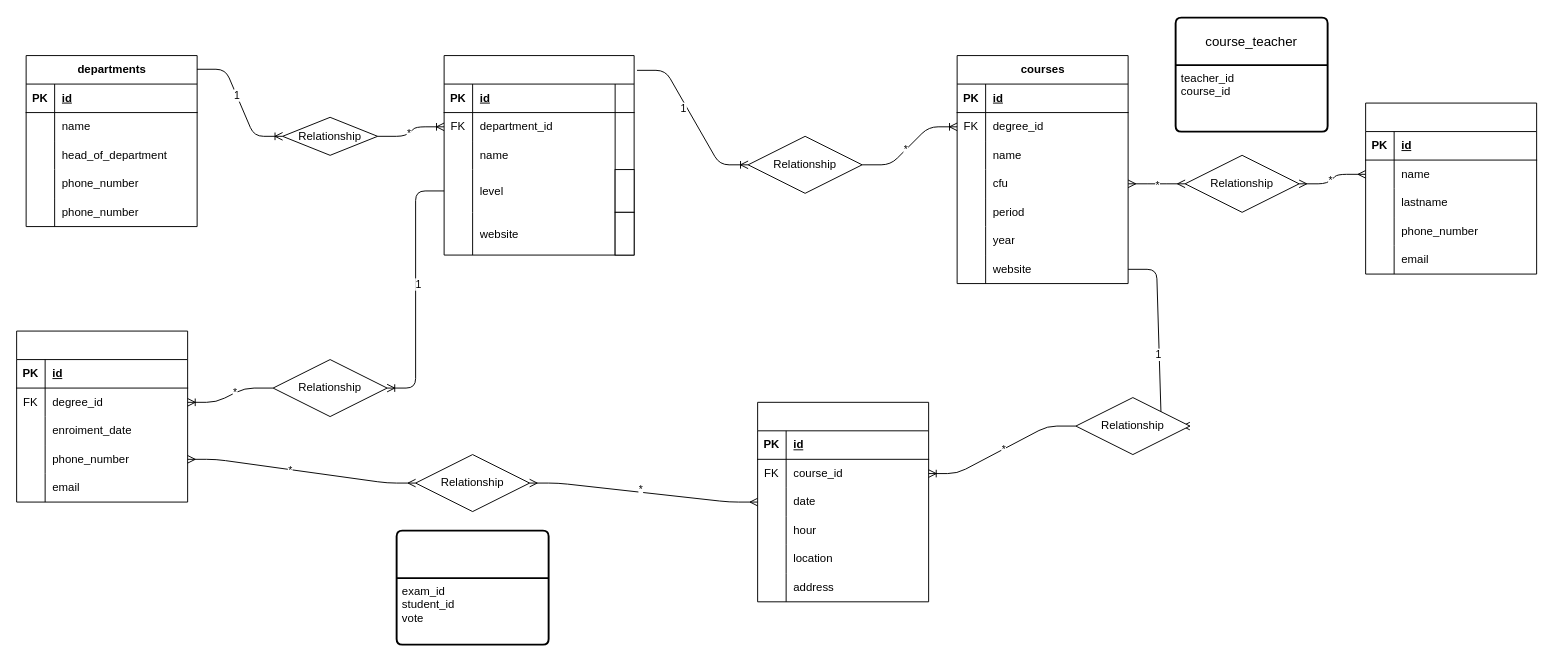
Some shapes in this 1553 by 661 pixel diagram are drawn without their labels. The shapes that lost their labels are listed below. From the top down, each one's box as (x1, y1, x2, y2) in pixels, then its label:
(443, 55, 634, 255): degrees
(1365, 102, 1537, 274): teachers
(16, 330, 188, 502): students
(757, 401, 929, 602): exams
(395, 529, 549, 645): exam_student
